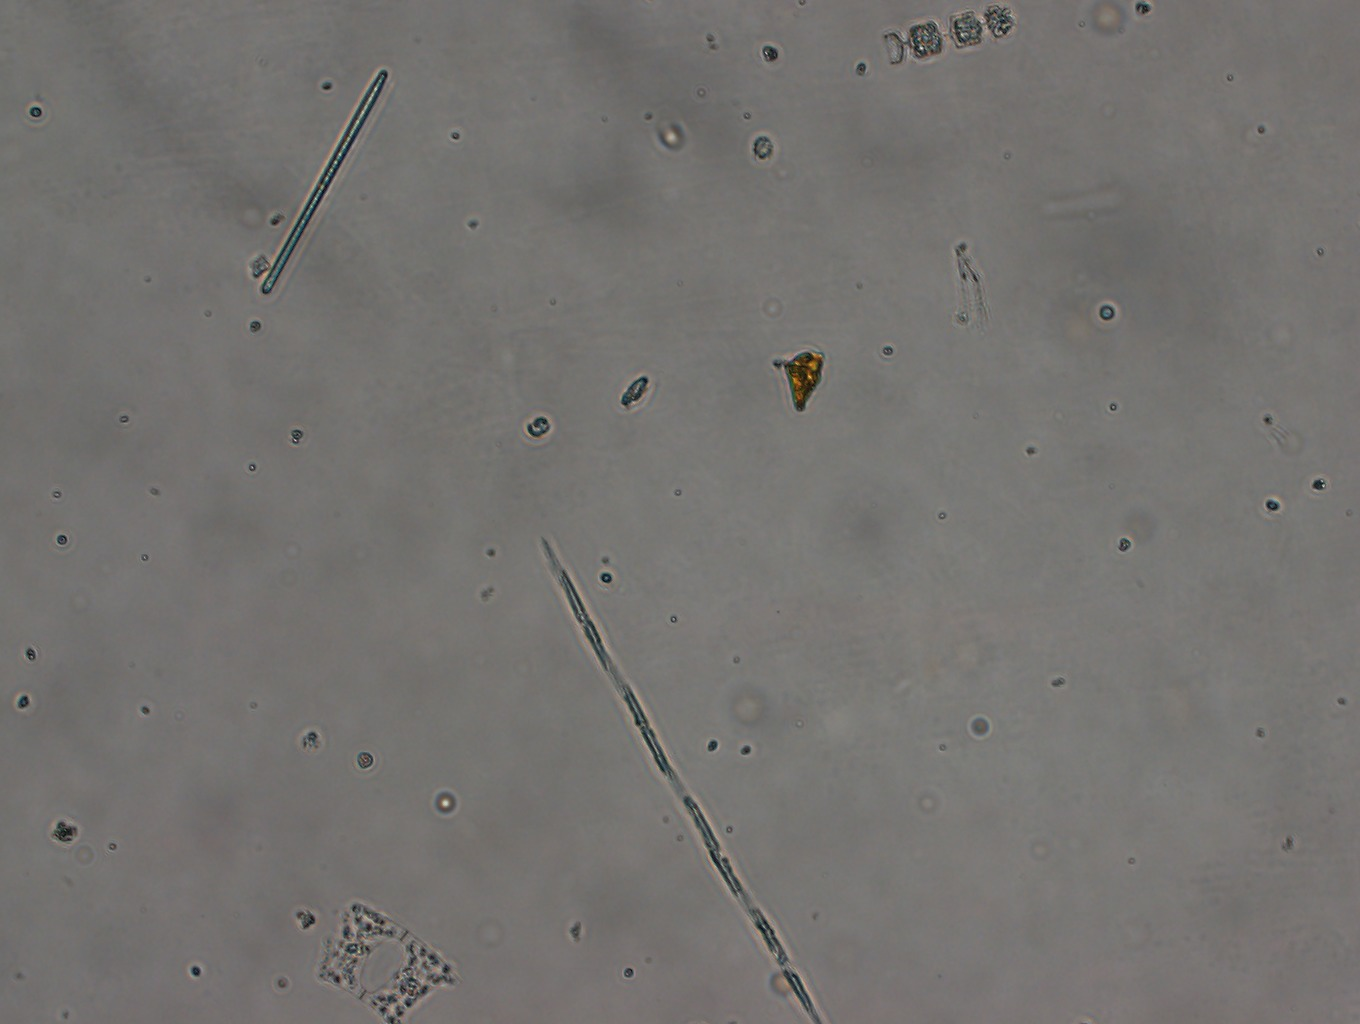chaetoceros: (881, 2, 1017, 66)
eucampia: (317, 904, 460, 1024)
